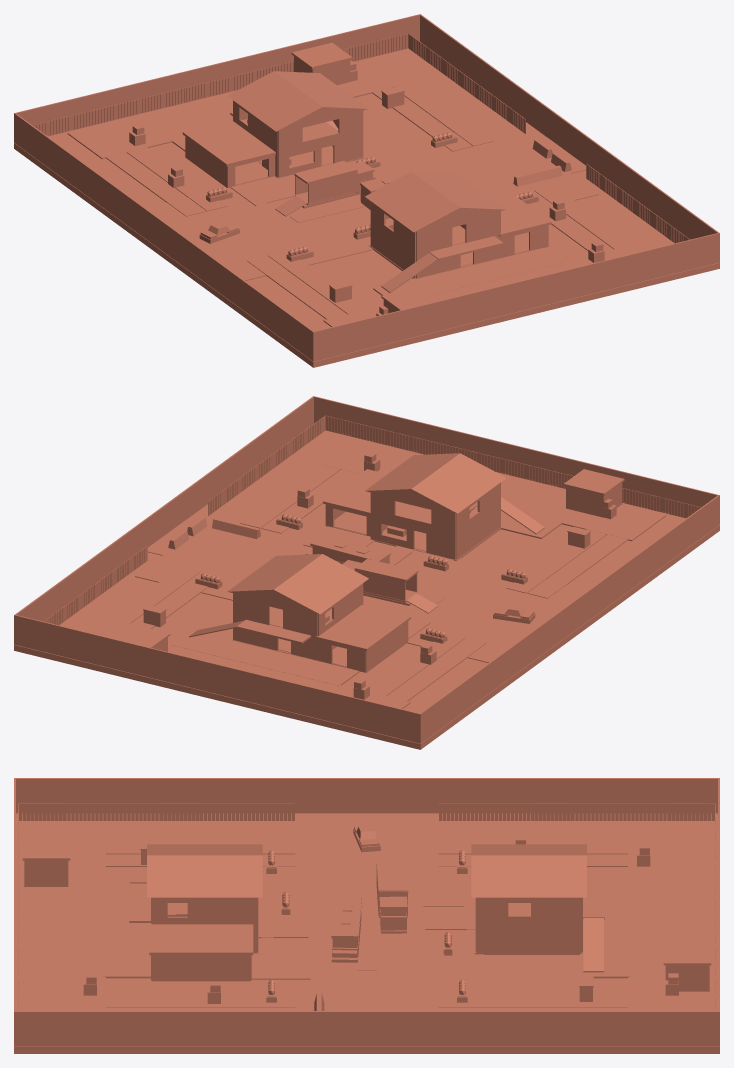
File: sunward-collision.glb
The picture shows the model from 3 angles, top to bottom: view 1: azimuth 30°, elevation 25°; view 2: azimuth 150°, elevation 25°; view 3: azimuth 270°, elevation 25°; orthographic projection. The views are drawn at different scales.
Parts seen in each view (by area): view 1: COL_Sunward_Static; view 2: COL_Sunward_Static; view 3: COL_Sunward_Static.
Boxes of the visible parts, x1=… form: COL_Sunward_Static: x1=14, y1=14, x2=719, y2=367; COL_Sunward_Static: x1=14, y1=396, x2=719, y2=749; COL_Sunward_Static: x1=14, y1=778, x2=719, y2=1053.
Bounding box in the file's own units: 58 × 9.45 × 74.
